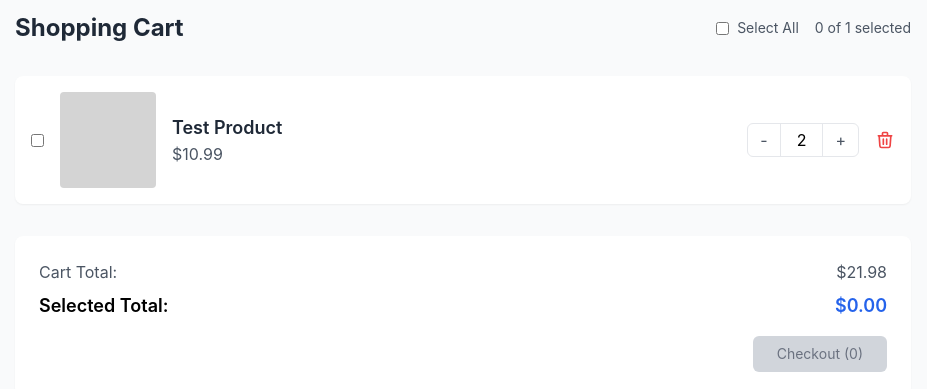
Scenario: CartPage Tests › updates item quantity and recalculates total price
Check: the heading "Test Product" is shown, box [172,117,282,138]
Check: the text "$21.98" is shown, box [836,260,887,284]
Click the button "+": [841, 140] box [823,124,858,156]
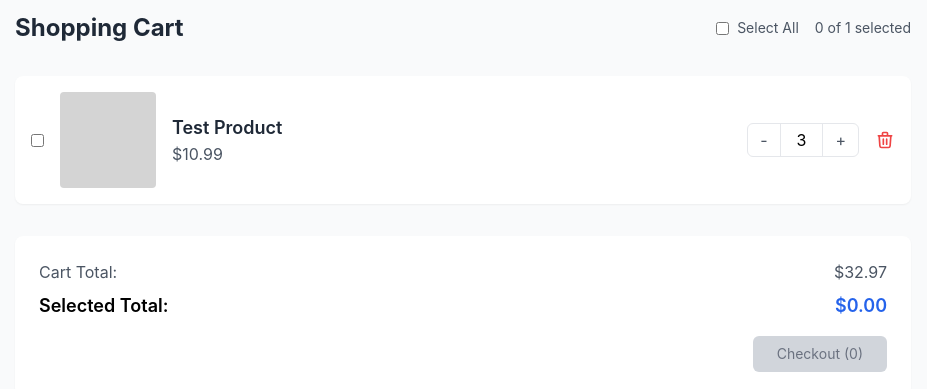
Check: the text "$32.97" is shown, box [834,260,887,284]
